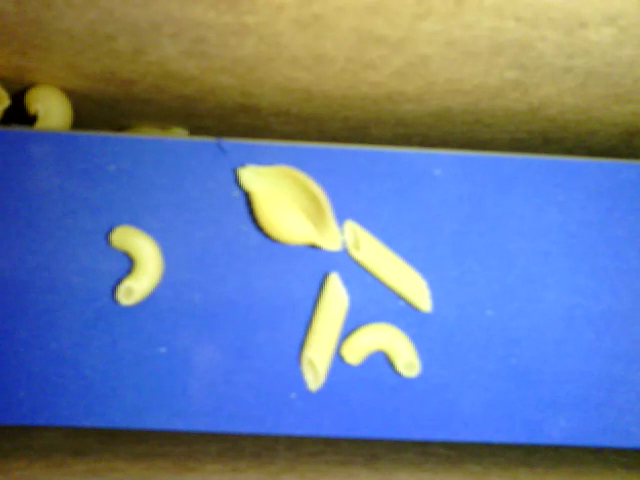elbow: (109, 223, 164, 309), (340, 321, 422, 378)
penne: (343, 218, 434, 314), (299, 267, 349, 394)
shell: (237, 162, 344, 253), (22, 81, 78, 136)
